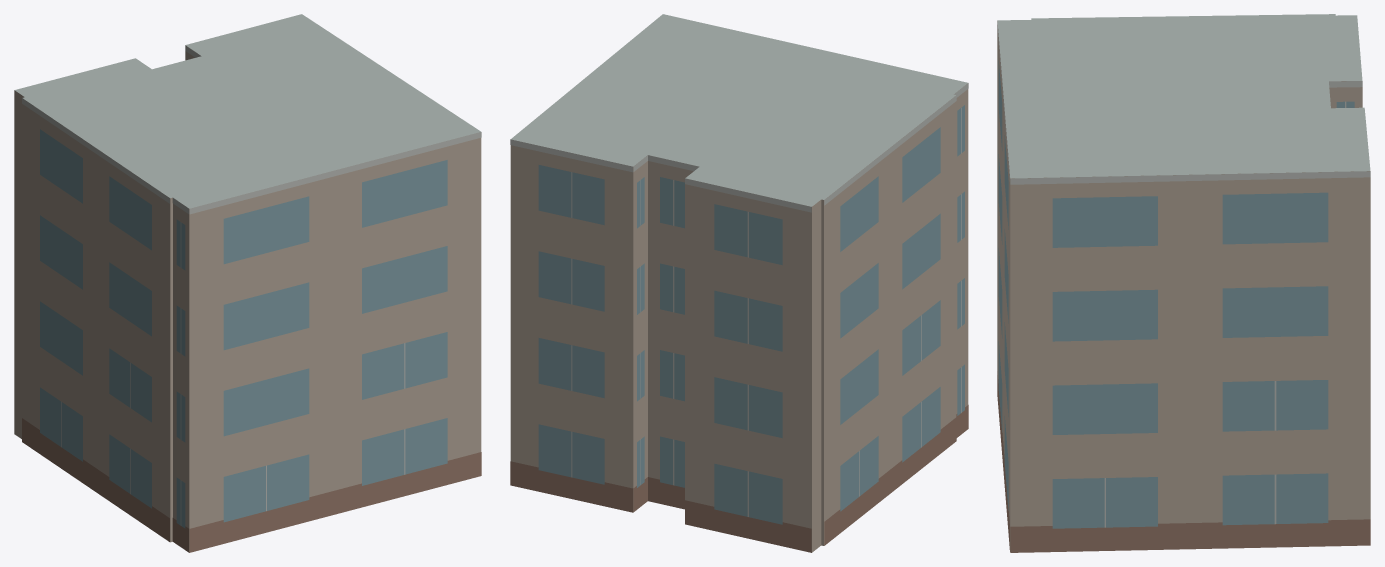
File: survey-upis-32976370.glb
The picture shows the model from 3 angles, left to right: view 1: azimuth 30°, elevation 25°; view 2: azimuth 150°, elevation 25°; view 3: azimuth 270°, elevation 25°; orthographic projection. The views are drawn at different scales.
Parts seen in each view (by area): view 1: survey-upis-32976370.tmp; view 2: survey-upis-32976370.tmp; view 3: survey-upis-32976370.tmp.
Boxes of the visible parts, bbox=[...] form: survey-upis-32976370.tmp: bbox=[14, 14, 481, 552]; survey-upis-32976370.tmp: bbox=[510, 14, 968, 552]; survey-upis-32976370.tmp: bbox=[997, 14, 1370, 552].
Size of the model in its own units: 13.67 by 14.5 by 13.11.
